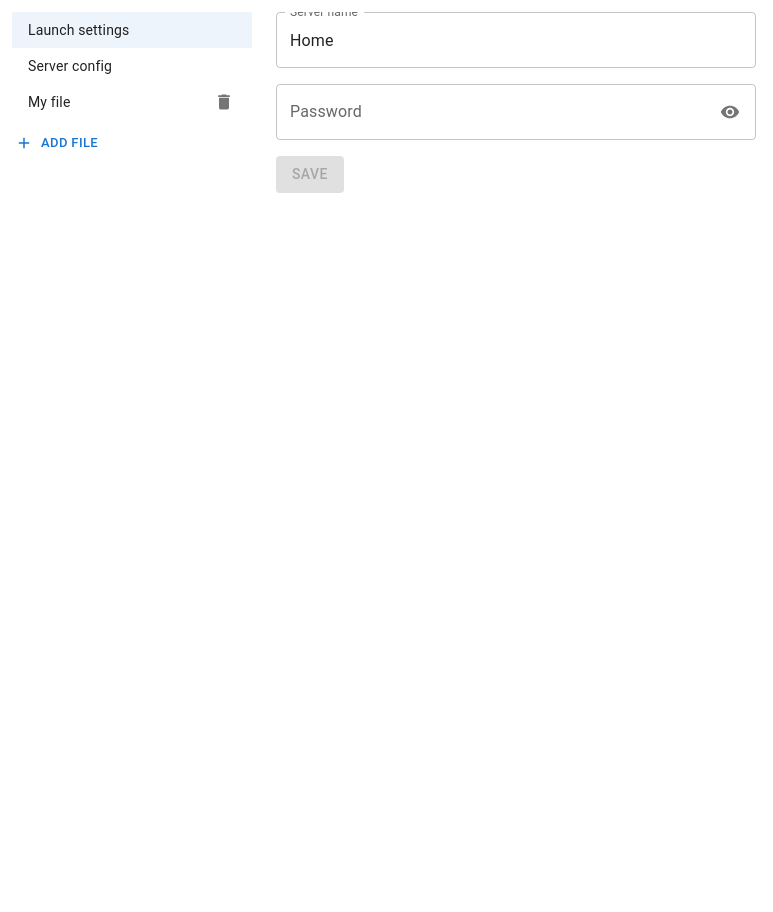
Scenario: SettingsTab: launch settings › after saving a new password the form is clean and does not keep the plaintext
Step 1. Type "secret" into the password field labelled "Password" → (492, 112), box [276, 84, 707, 140]
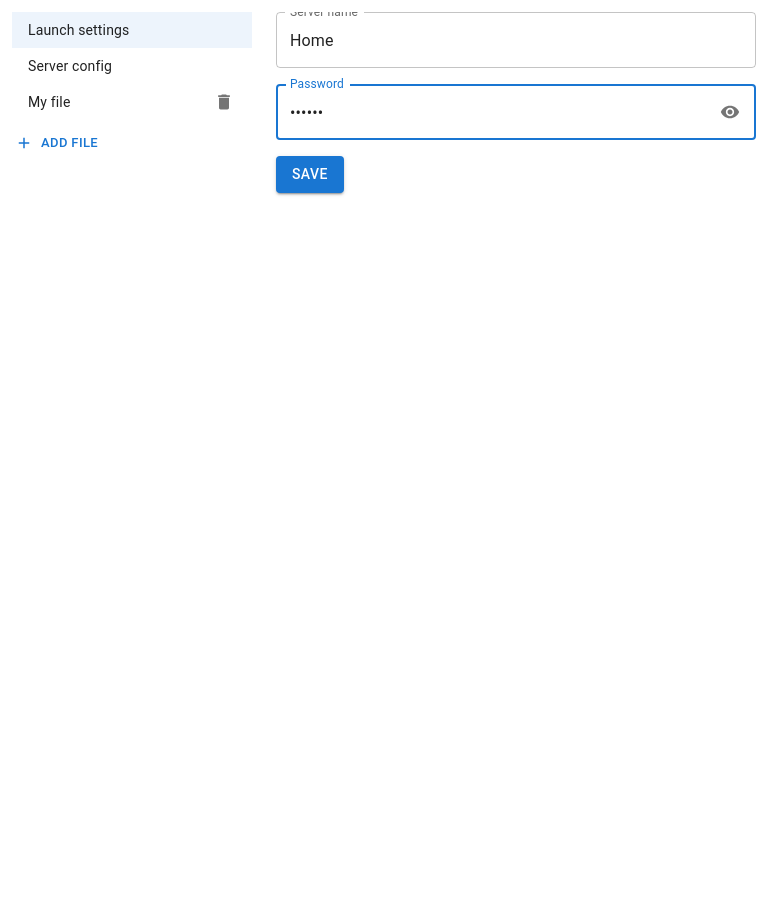
Step 2. Click the button "Save" → (310, 174), box [276, 156, 344, 192]
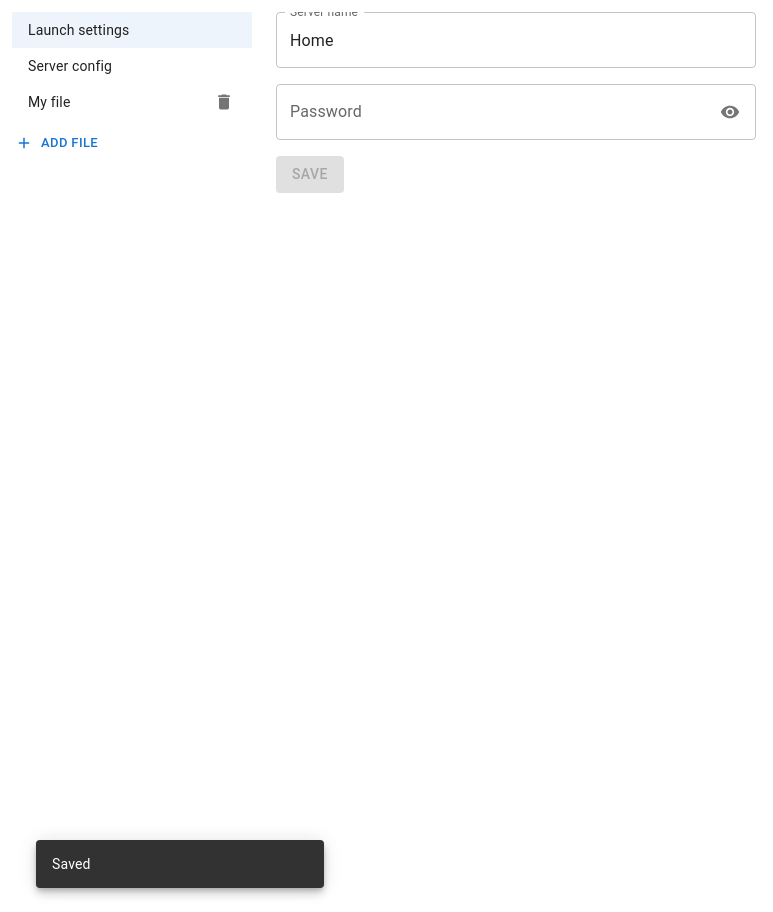
Expected: the password field labelled "Password" is empty, [276, 84, 707, 140]
Expected: the button "Save" is disabled, [276, 156, 344, 192]
